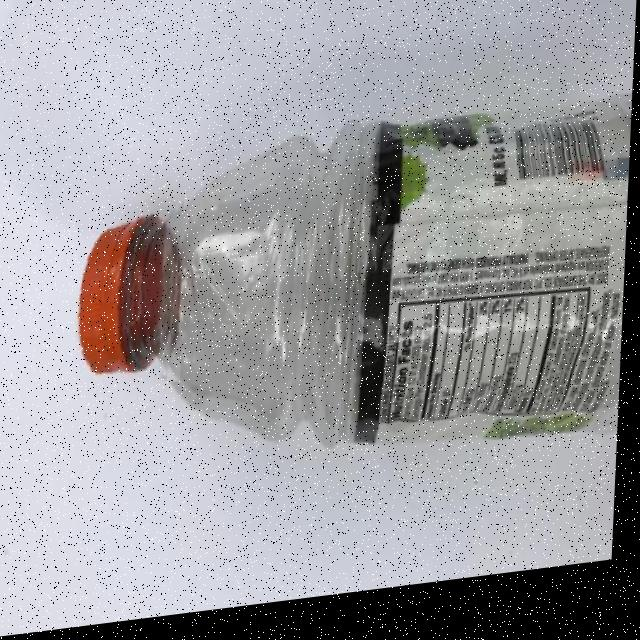litter: (76, 200, 187, 402)
